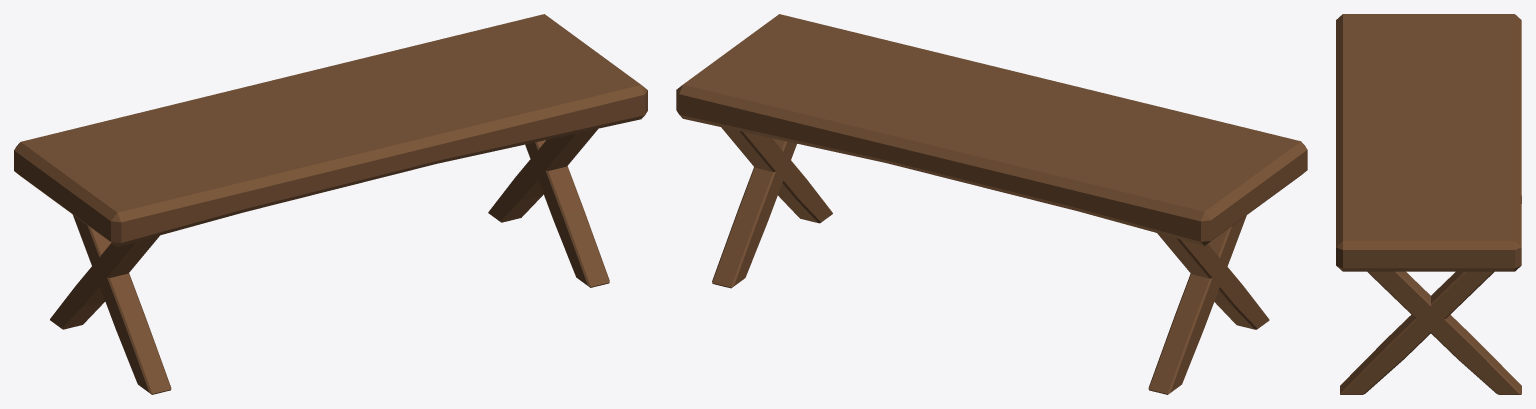
Rendered from tradestand00.fbx.
3 views of the same model, side by side, from view 1: azimuth 30°, elevation 25°; view 2: azimuth 150°, elevation 25°; view 3: azimuth 270°, elevation 25° (orthographic). The views are drawn at different scales.
Visible parts, largest first — view 1: Trandestand 00; view 2: Trandestand 00; view 3: Trandestand 00.
Boxes of the visible parts, x1,y1,x2,y2 form: Trandestand 00: [14, 14, 647, 394]; Trandestand 00: [676, 14, 1307, 394]; Trandestand 00: [1336, 14, 1521, 394].
Bounding box in the file's own units: 255 × 85.87 × 85.92.
